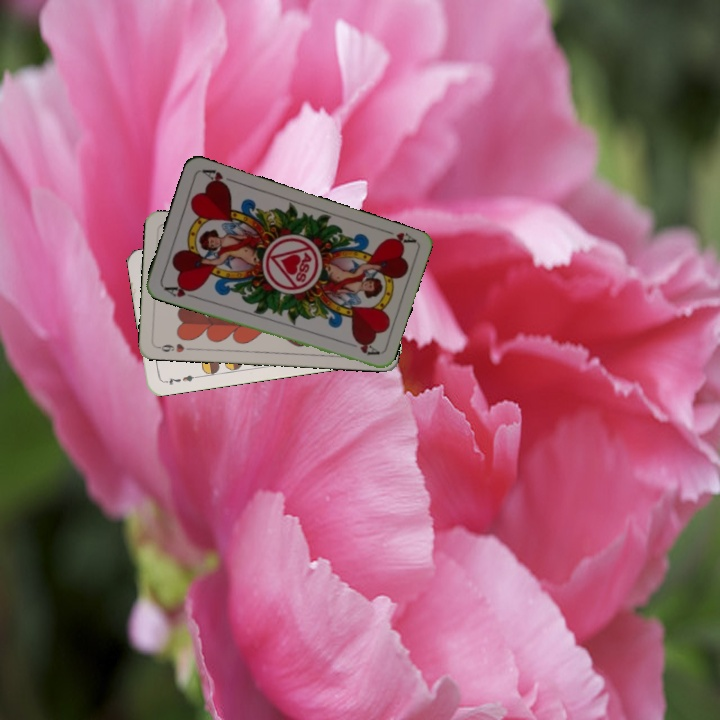E7: (159, 371, 200, 387)
H9: (153, 339, 194, 355)
HA: (378, 225, 417, 249), (160, 280, 199, 301)
